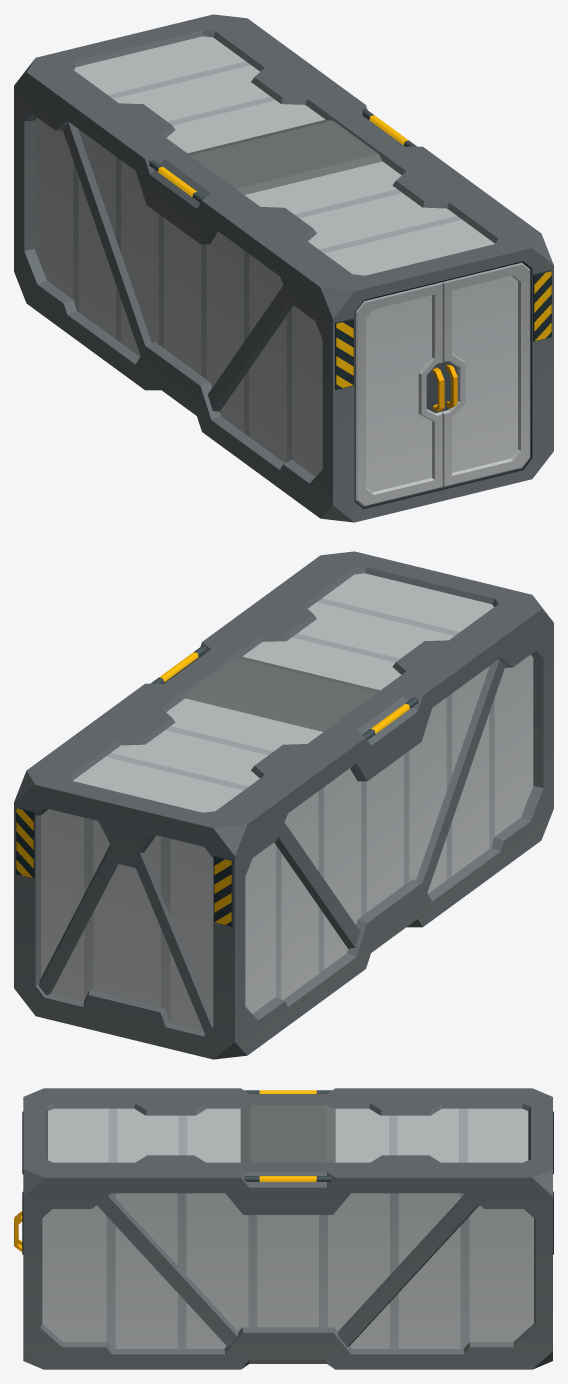
Rendered from Container_type_A_004.glb.
3 views of the same model, one above another, from view 1: azimuth 30°, elevation 25°; view 2: azimuth 150°, elevation 25°; view 3: azimuth 270°, elevation 25° (orthographic). The views are drawn at different scales.
Visible parts, largest first — view 1: Container_type_A_004, Container_type_A_door_002, Container_type_A_door_003; view 2: Container_type_A_004; view 3: Container_type_A_004.
Part boxes in pixels (x1,y1,x2,y2): Container_type_A_004: (14,14,553,522); Container_type_A_door_002: (442,262,530,487); Container_type_A_door_003: (355,282,444,506); Container_type_A_004: (14,551,553,1059); Container_type_A_004: (22,1088,553,1369).
Bounding box in the file's own units: 2.4 × 2.4 × 6.12.
Materials: 2 (2 with a texture image).
